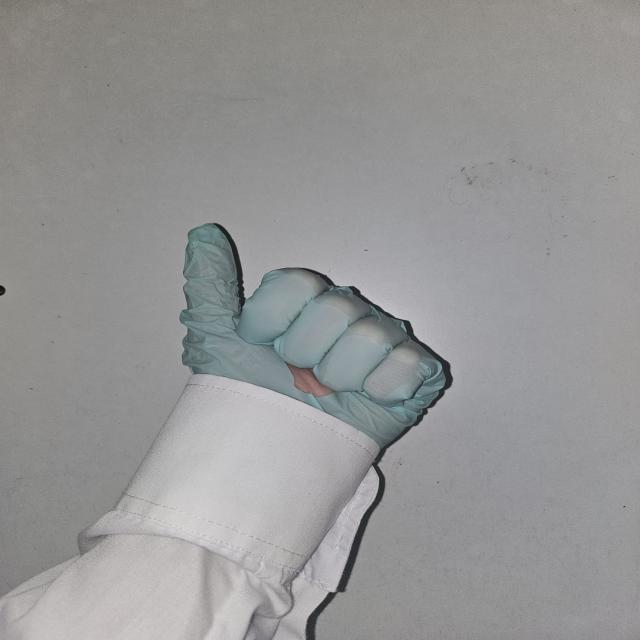gloves_damaged: (174, 221, 460, 442)
